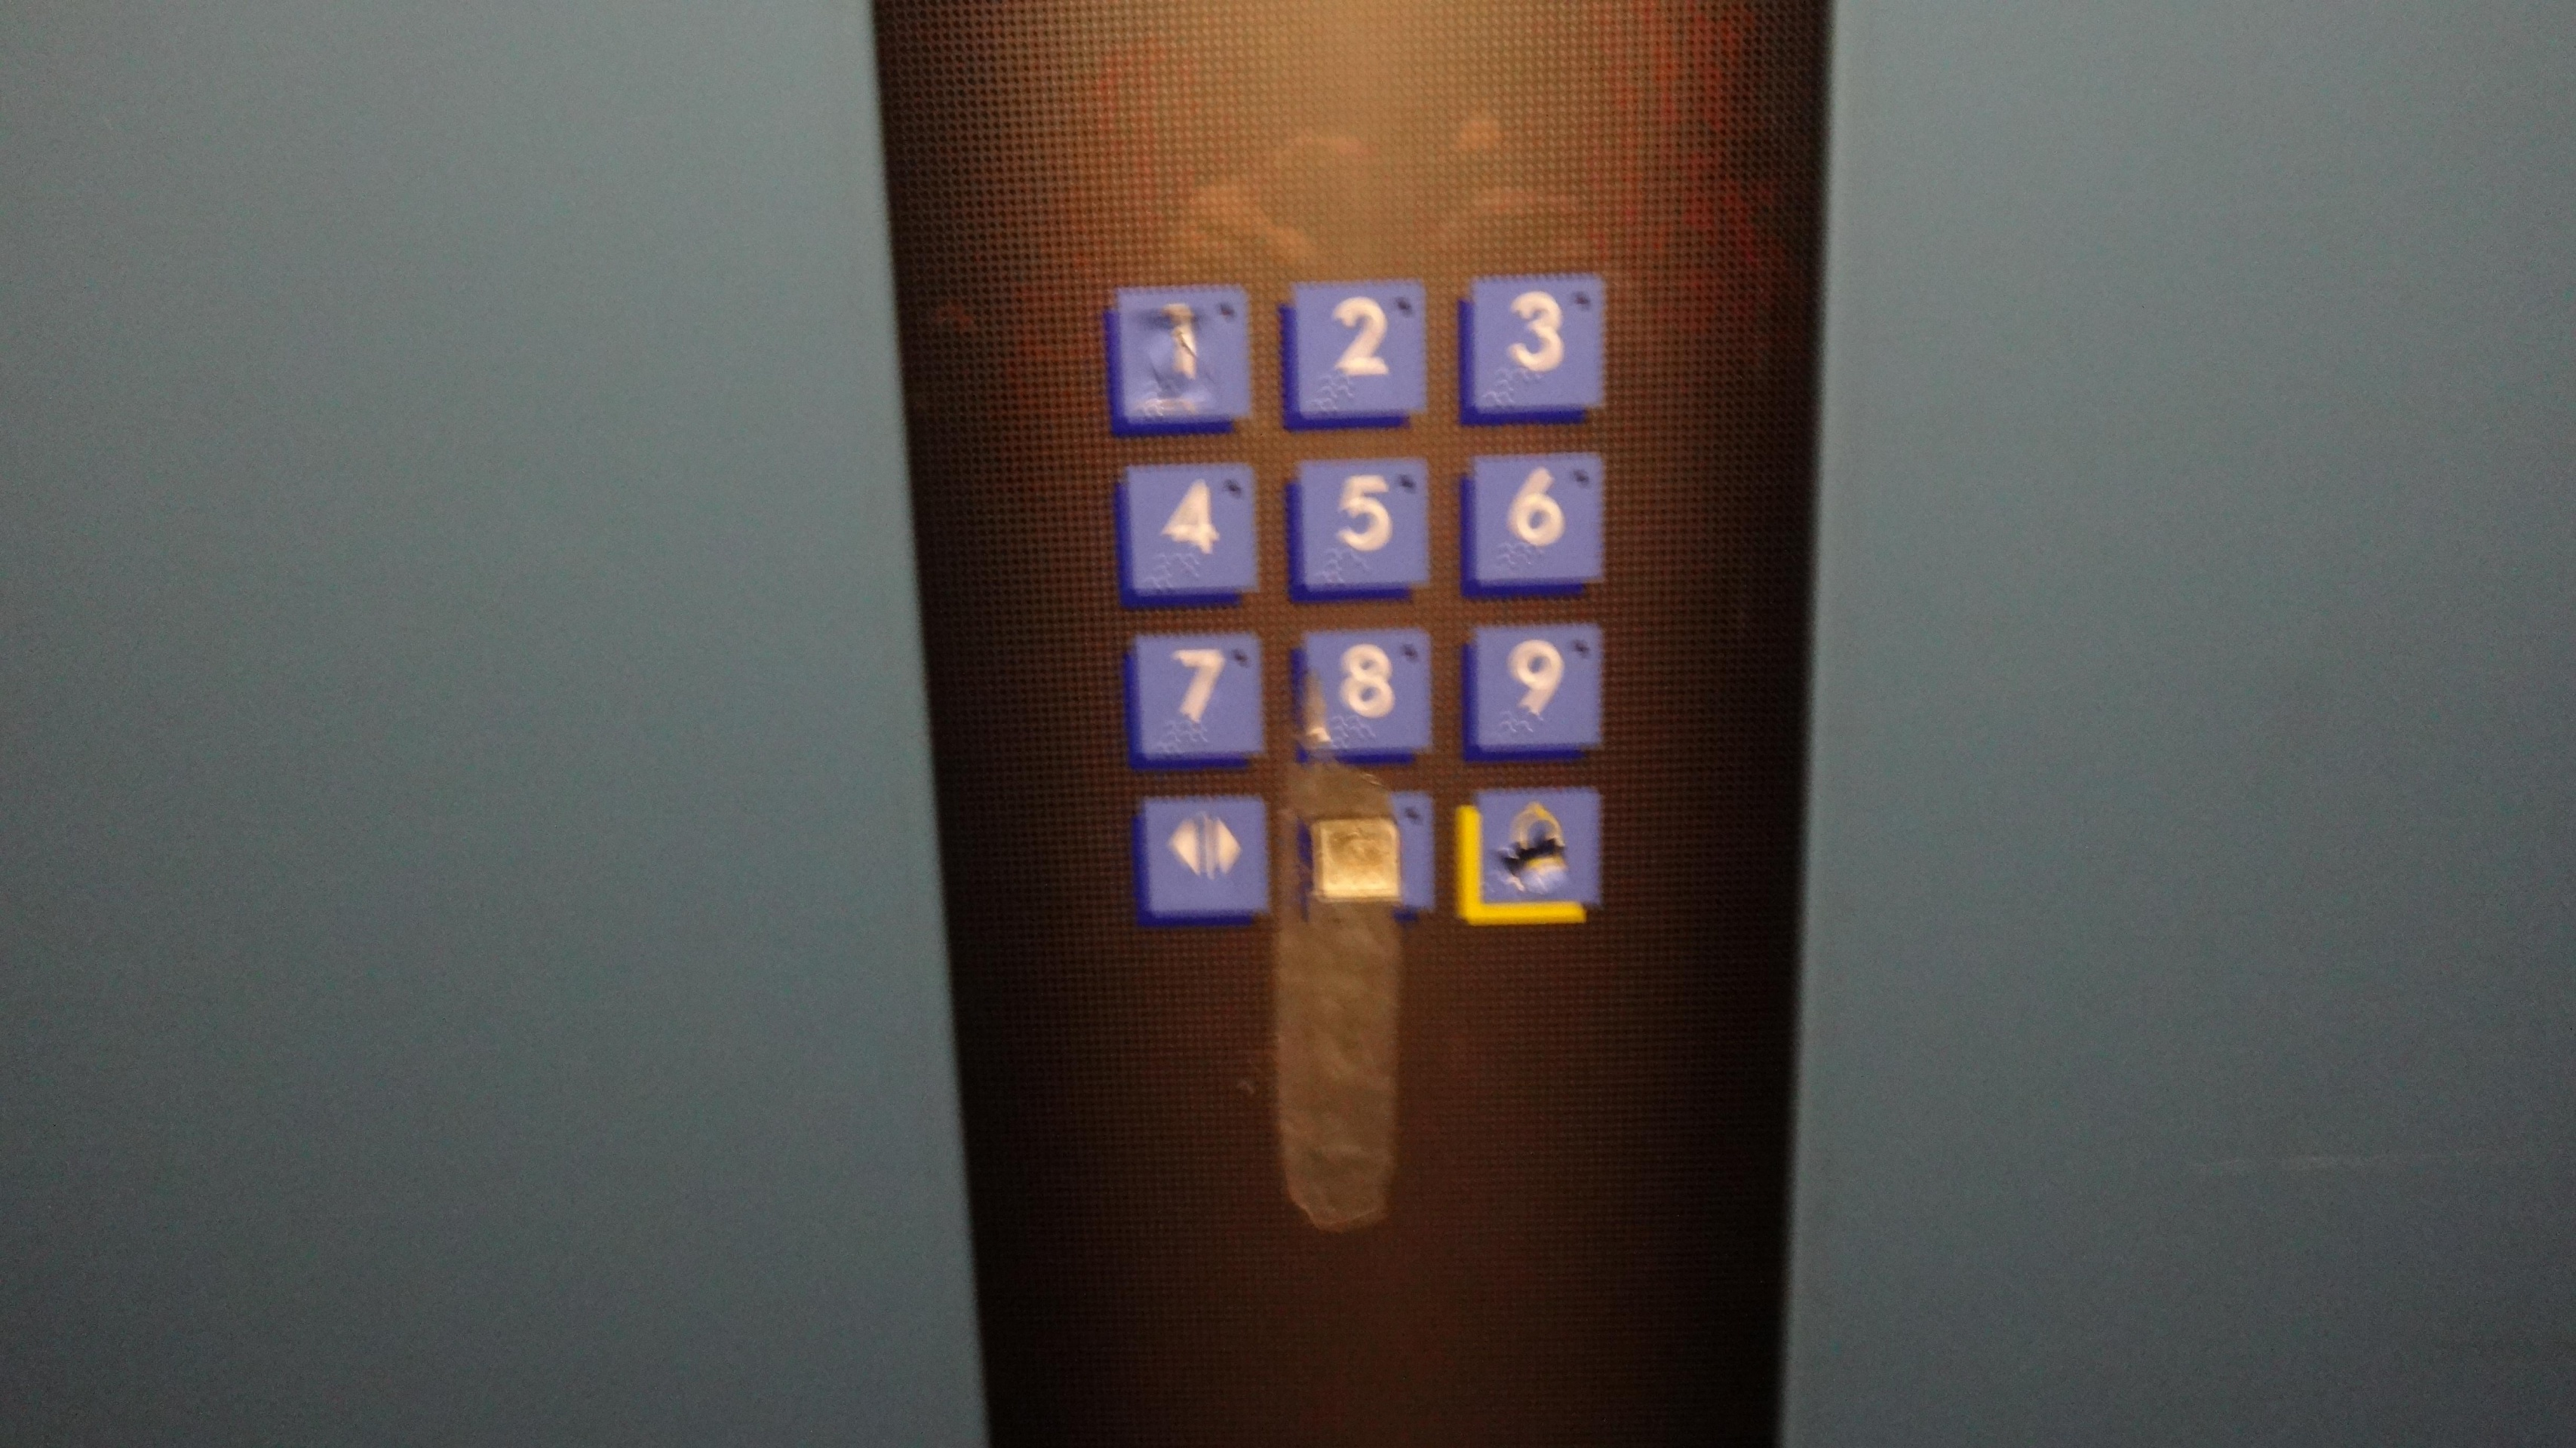1: (1111, 285, 1254, 428)
2: (1292, 281, 1431, 415)
3: (1472, 278, 1606, 408)
4: (1120, 460, 1258, 598)
5: (1293, 458, 1431, 596)
6: (1470, 447, 1608, 585)
7: (1132, 631, 1265, 760)
8: (1300, 629, 1433, 758)
9: (1465, 619, 1605, 757)
alarm: (1470, 780, 1608, 918)
empty: (1307, 813, 1408, 911)
open: (1138, 789, 1270, 918)
